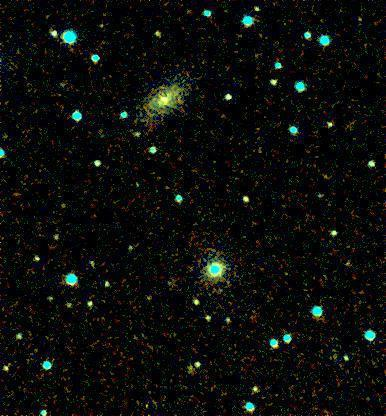star: (303, 182, 333, 212)
